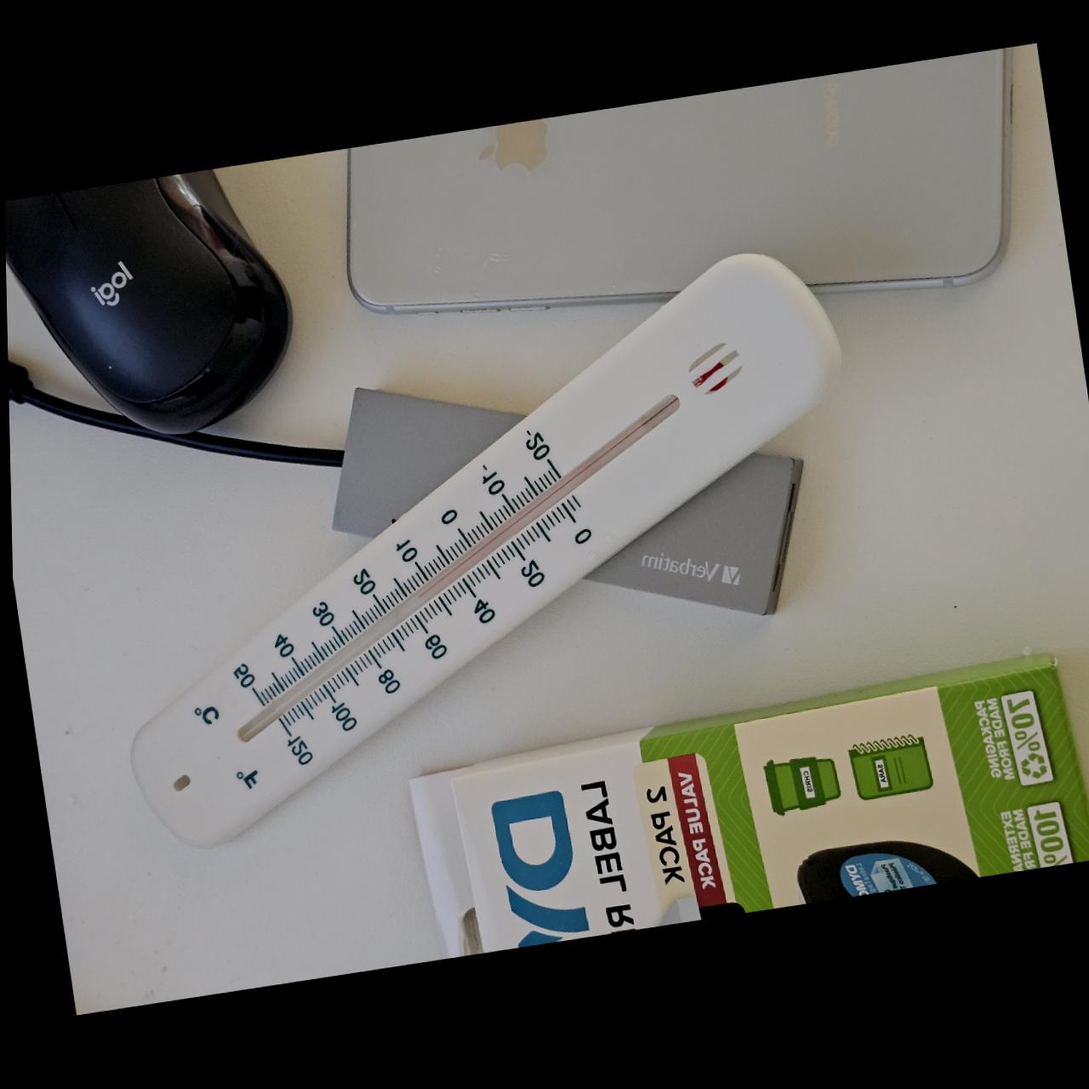thermometer: (68, 237, 903, 863)
